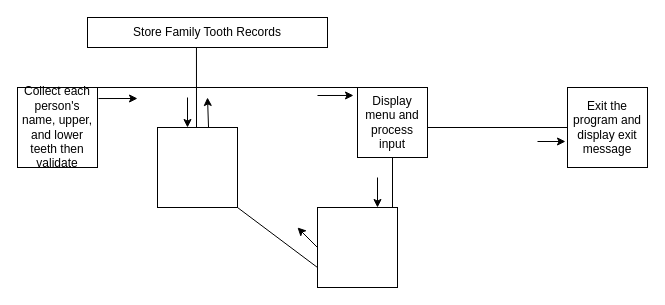
Image size: 665x305. Some labels were removed from this diagram. The shapes that lost their labels are listed below. From the top down, each one's box as (x1, y1, x2, y2) in pixels, then its label:
(156, 126, 238, 208): Store inputs in 3D array
(316, 206, 398, 288): Edit Dental Records or Display Information
